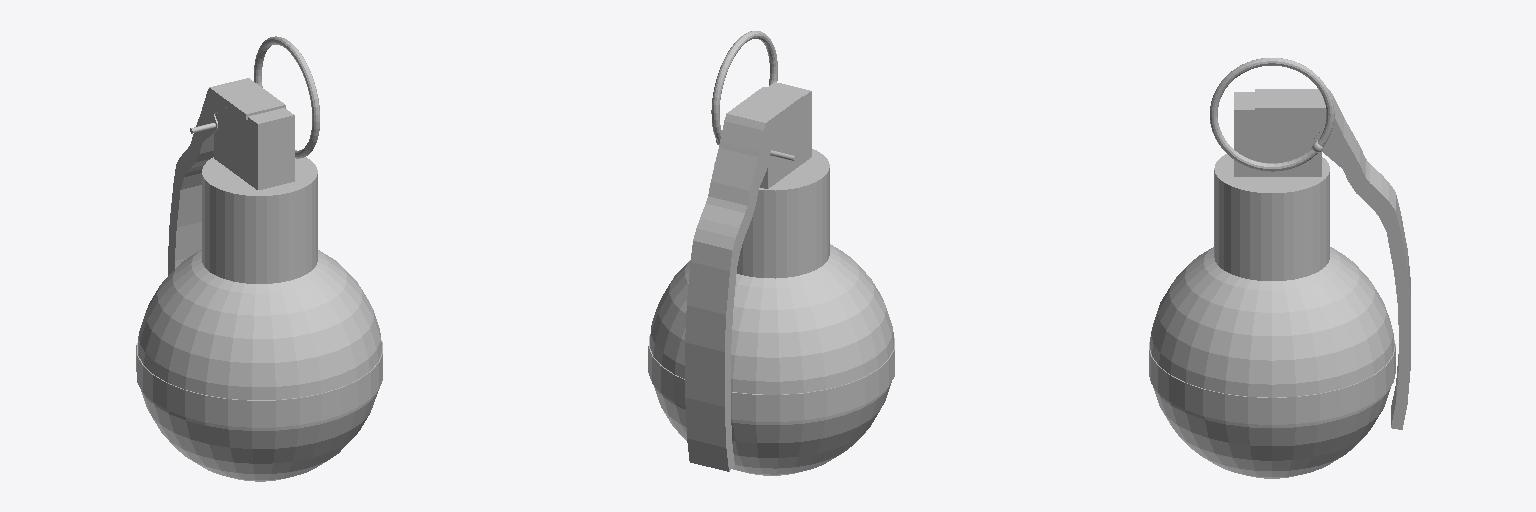
Rendered from Stinger Grenade.obj.
3 views of the same model, side by side, from view 1: azimuth 30°, elevation 25°; view 2: azimuth 150°, elevation 25°; view 3: azimuth 270°, elevation 25° (orthographic).
Parts seen in each view (by area): view 1: Stinger, Stinger_Spoon, Stinger_Pin; view 2: Stinger, Stinger_Spoon, Stinger_Pin; view 3: Stinger, Stinger_Spoon, Stinger_Pin.
Part boxes in pixels (x1,y1,x2,y2): Stinger: (136, 107, 382, 481); Stinger_Spoon: (168, 78, 285, 275); Stinger_Pin: (190, 36, 319, 158); Stinger: (648, 82, 894, 475); Stinger_Spoon: (685, 87, 802, 471); Stinger_Pin: (711, 31, 795, 160); Stinger: (1149, 92, 1395, 478); Stinger_Spoon: (1255, 89, 1410, 429); Stinger_Pin: (1210, 58, 1334, 171).
Size of the model in its own units: 1.36 by 2.56 by 1.44.